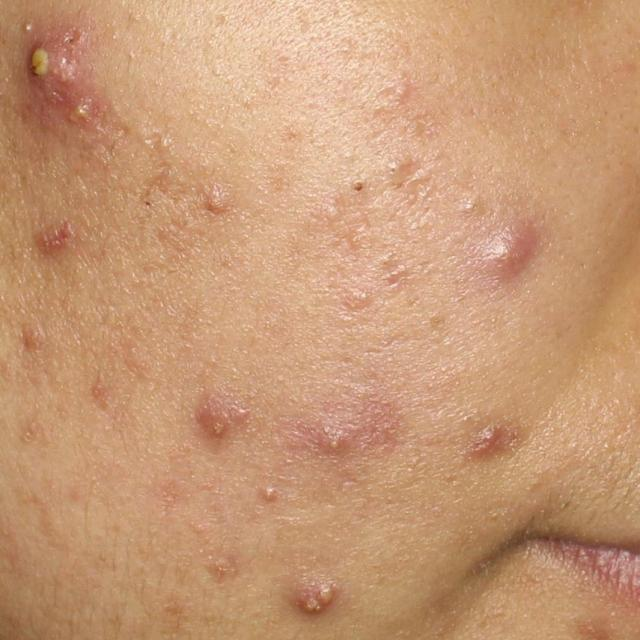blackhead: (354, 183, 362, 191), (145, 202, 151, 206), (391, 168, 395, 173), (398, 184, 402, 187)
nodule: (484, 223, 536, 279), (472, 426, 500, 456)
